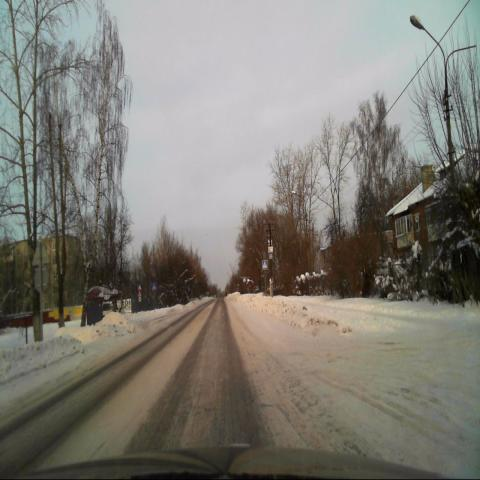5_19_1: (262, 259, 268, 270)
